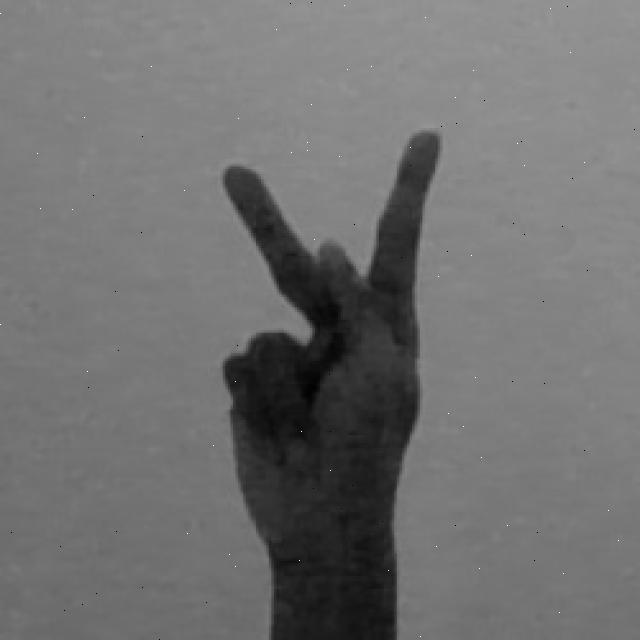K: (212, 125, 450, 640)
